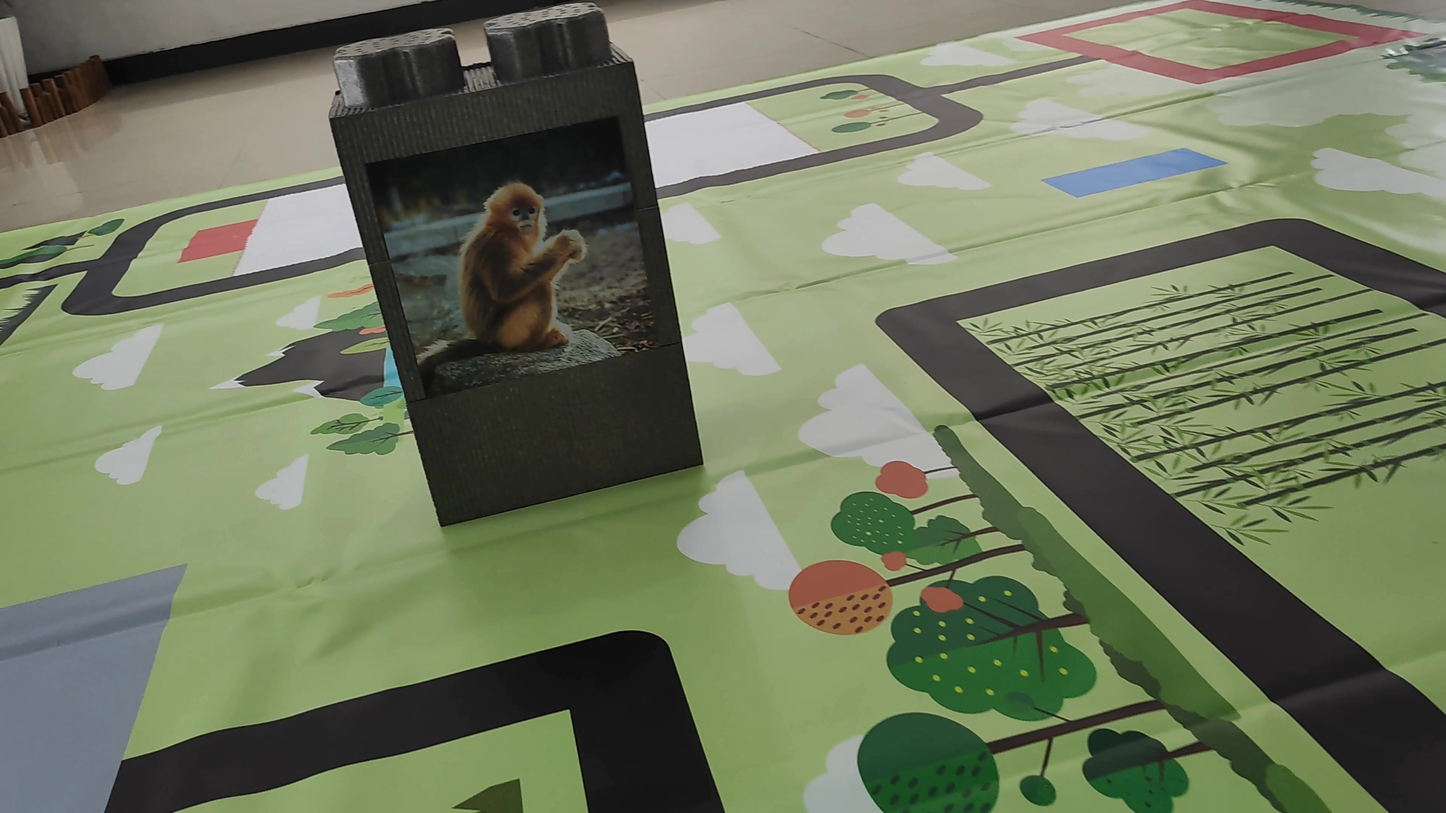monkey: (406, 168, 619, 371)
